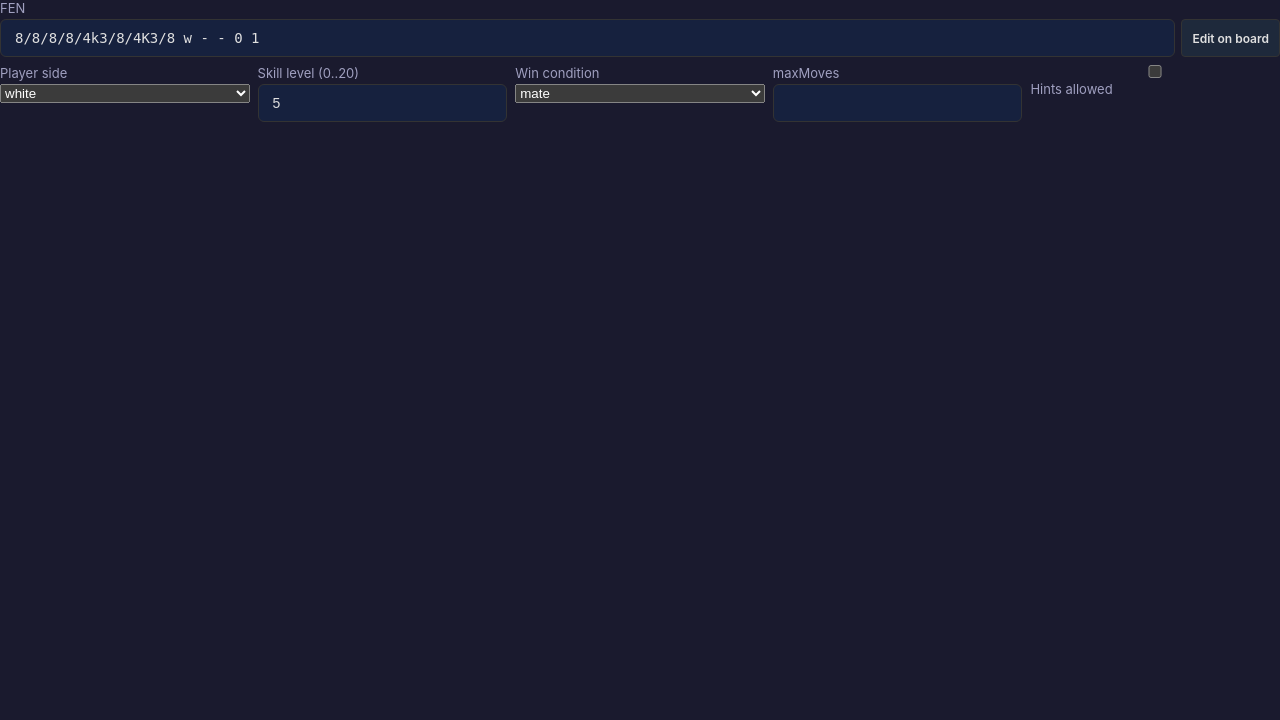
<EndgameDrillFields> board editor (KS-1906) › клик по «Edit on board» открывает SetPositionModal с FEN из payload
Check: the text "Set Position" is not shown
Click the button with test id "editor-endgame-edit-board": [1231, 38] box [1181,19,1279,57]
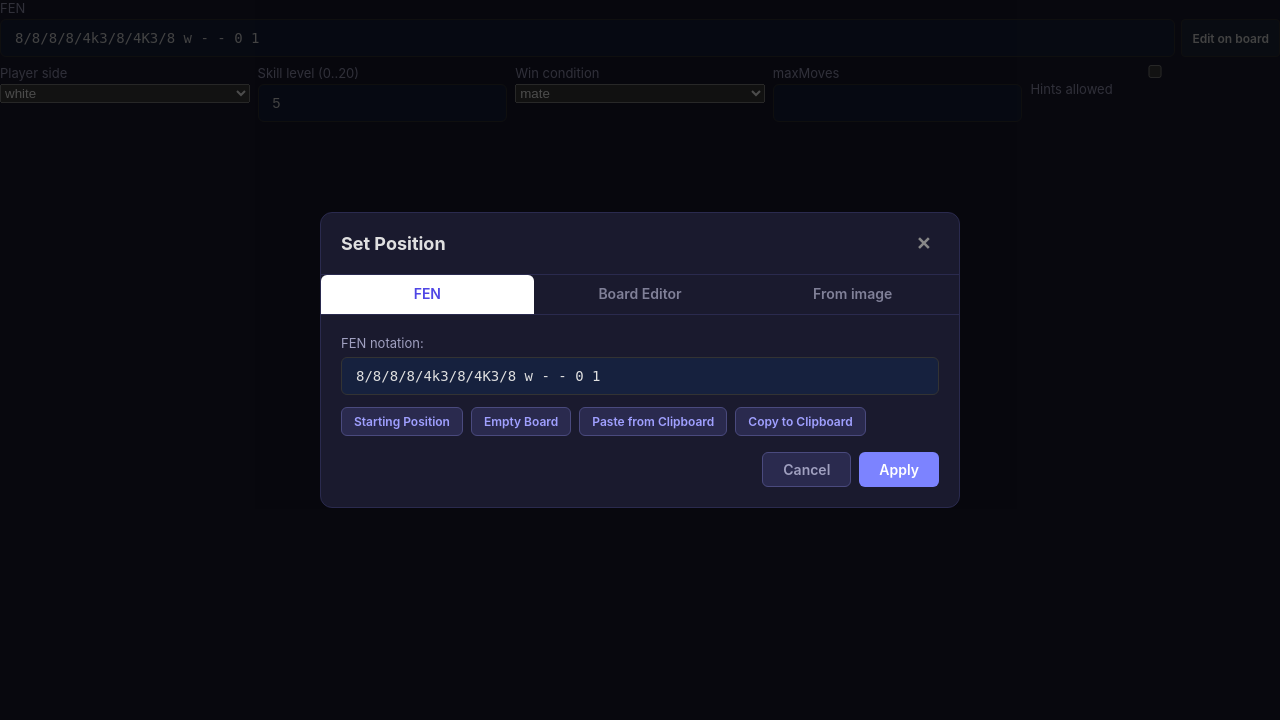
Check: the heading "Set Position" is shown, box [341,233,446,254]
Check: the field showing "8/8/8/8/4k3/8/4K3/8 w - - 0 1" is shown, box [341,357,939,395]
